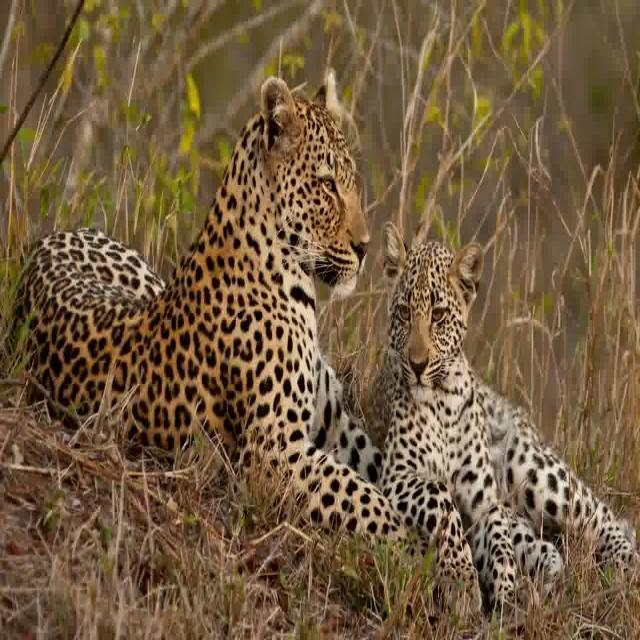Jaguar: (0, 59, 394, 556), (379, 210, 569, 610)
